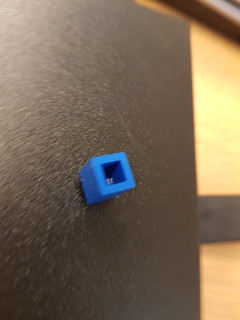1x1 blue: (78, 153, 136, 205)
